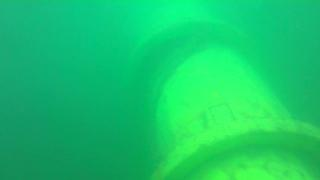pipe: (118, 1, 320, 180)
